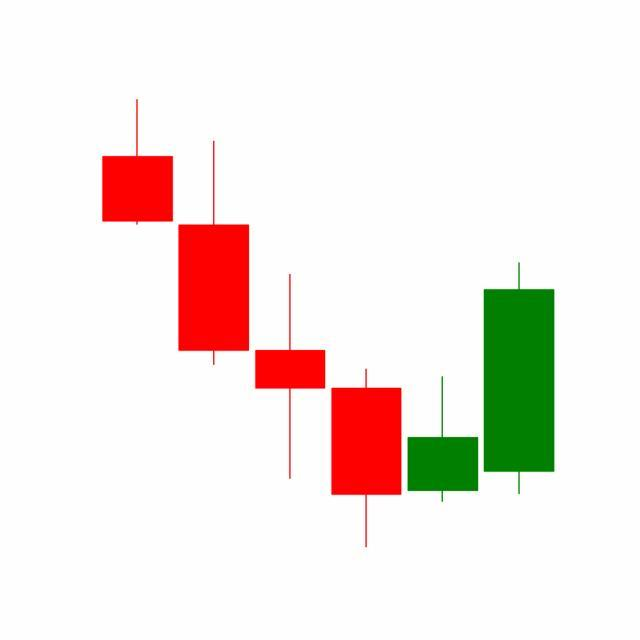Three Inside Up-Down: (326, 258, 555, 548)
